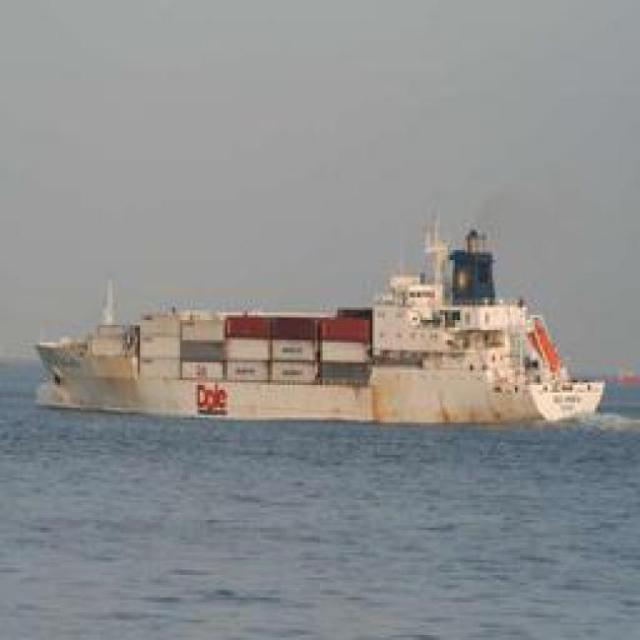boat: (30, 296, 612, 436)
